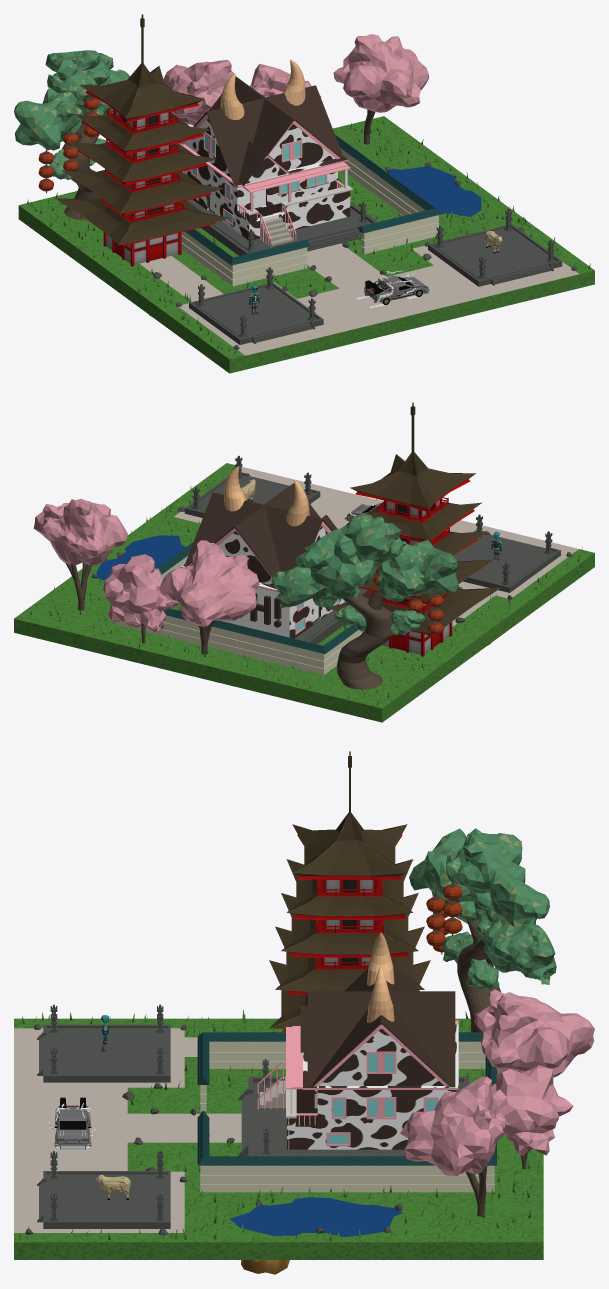
3 renders of one model, top to bottom at view 1: azimuth 30°, elevation 25°; view 2: azimuth 150°, elevation 25°; view 3: azimuth 270°, elevation 25°, orthographic. The views are drawn at different scales.
Visible parts, largest first — view 1: Cube.005, Cube.1242, VEHICLES_DELOREAN; view 2: Cube.005, Cube.1242; view 3: Cube.005, Cube.1242, VEHICLES_DELOREAN.
Boxes of the visible parts, x1,y1,x2,y2 form: Cube.005: [14, 14, 594, 373]; Cube.1242: [178, 59, 352, 247]; VEHICLES_DELOREAN: [353, 270, 429, 308]; Cube.005: [14, 402, 594, 722]; Cube.1242: [180, 466, 344, 638]; Cube.005: [14, 751, 594, 1259]; Cube.1242: [257, 932, 458, 1149]; VEHICLES_DELOREAN: [47, 1097, 95, 1149].
Size of the model in its own units: 4528 by 2803 by 4389.
Materials: 48 (5 with a texture image).
